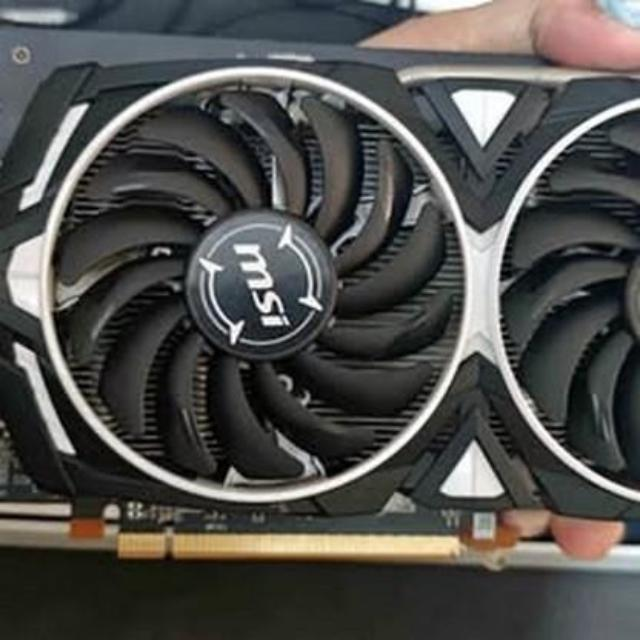GPU: (0, 29, 640, 574)
